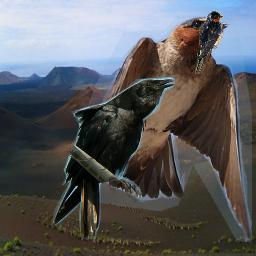Crow: (53, 77, 175, 241)
Swallow: (71, 16, 252, 242), (194, 10, 224, 74)
